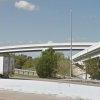Bridge: (5, 27, 97, 60)
